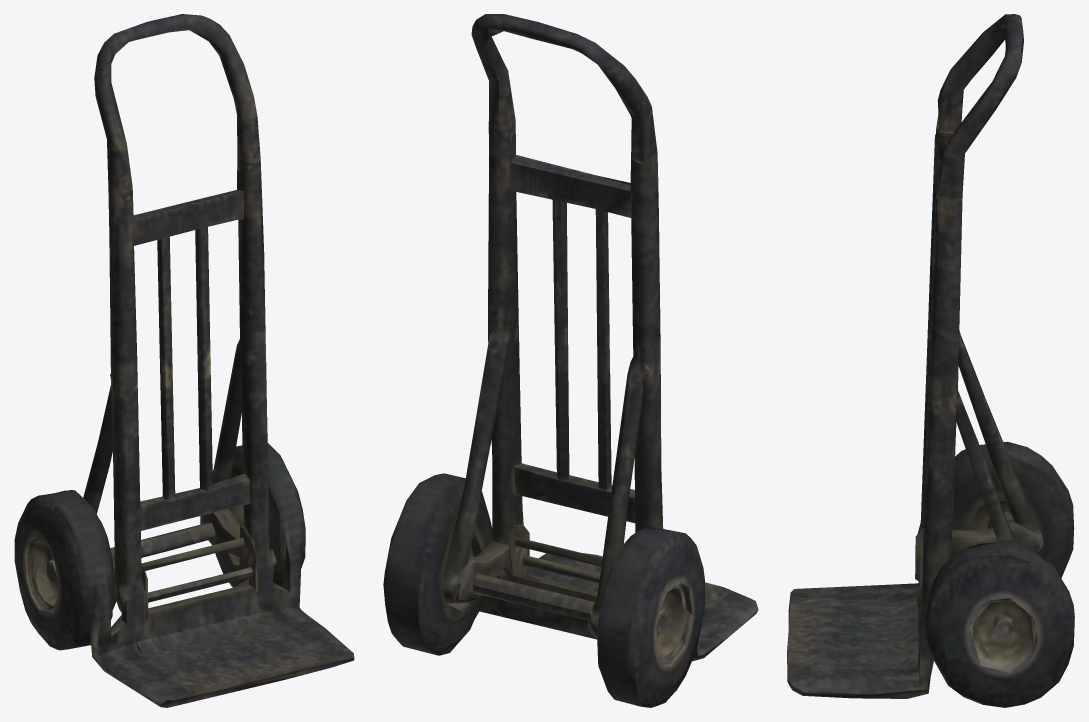
File: p7-hand-truck.glb
3 renders of one model, left to right at view 1: azimuth 30°, elevation 25°; view 2: azimuth 150°, elevation 25°; view 3: azimuth 270°, elevation 25°, orthographic. The views are drawn at different scales.
Visible parts, largest first — view 1: p7-hand-truck; view 2: p7-hand-truck; view 3: p7-hand-truck.
Part boxes in pixels (box(x1,y1,x2,y2)): p7-hand-truck: box(14, 14, 354, 707); p7-hand-truck: box(383, 14, 758, 707); p7-hand-truck: box(787, 14, 1074, 707).
Size of the model in its own units: 0.5 by 1.2 by 0.5.
Materials: 1 (1 with a texture image).
